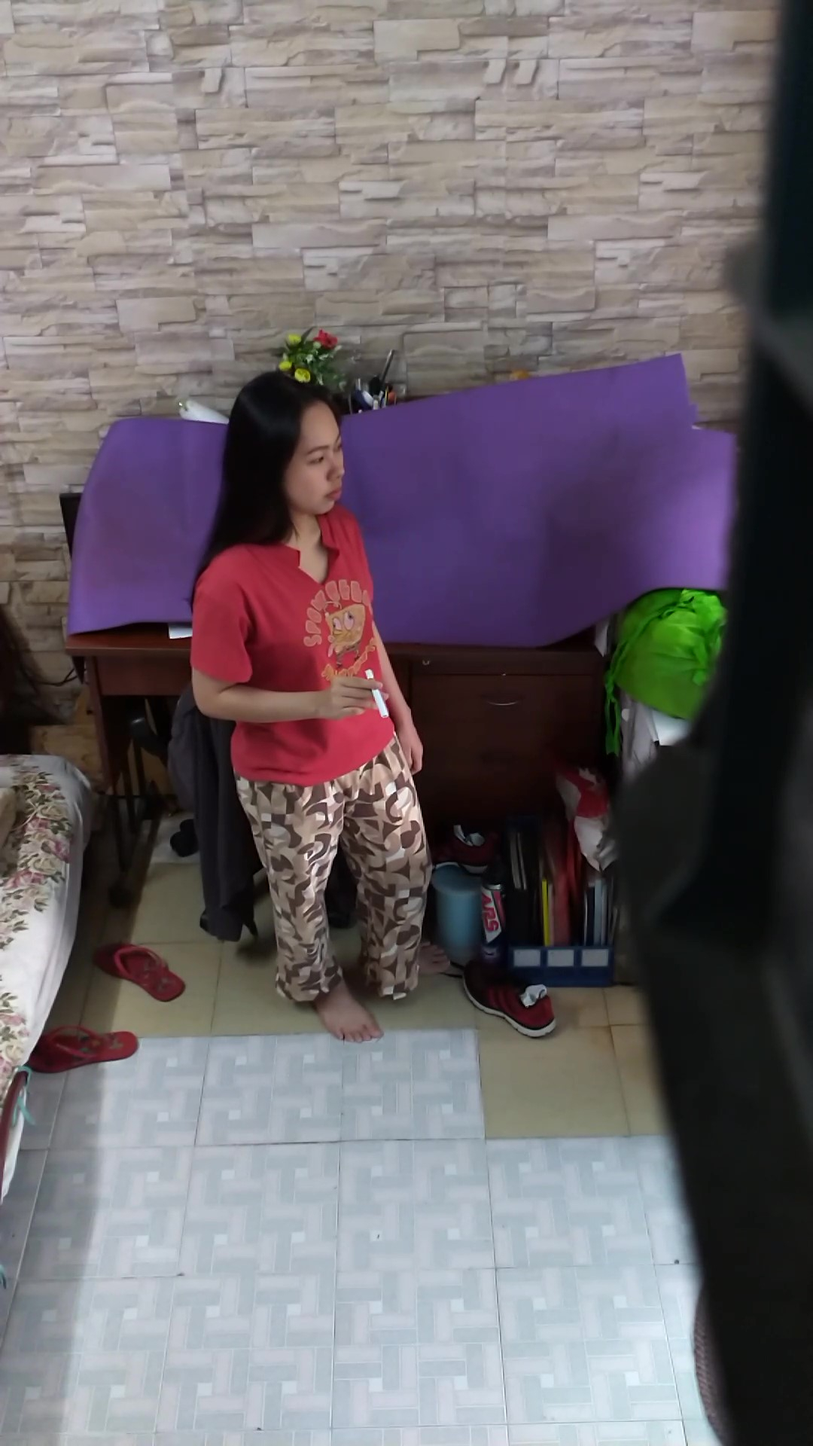cigarette: (370, 689, 391, 722)
person: (187, 365, 443, 1031)
